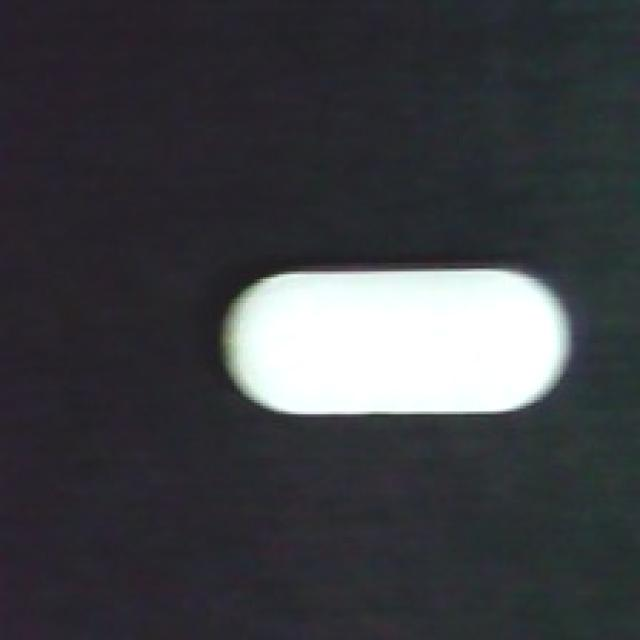no-defect: (217, 257, 577, 420)
